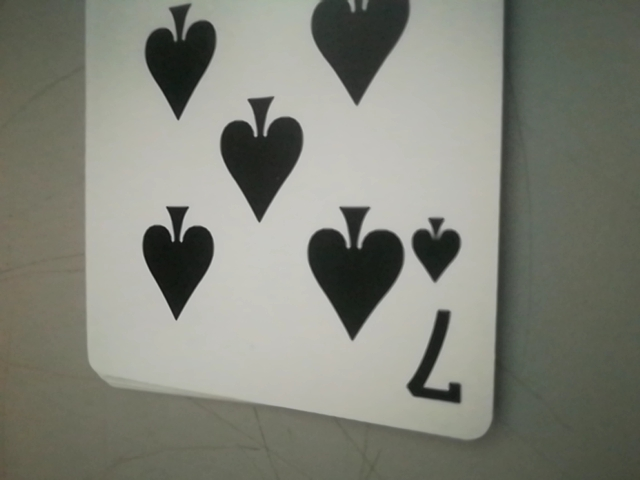ht 7: (405, 217, 471, 402)
